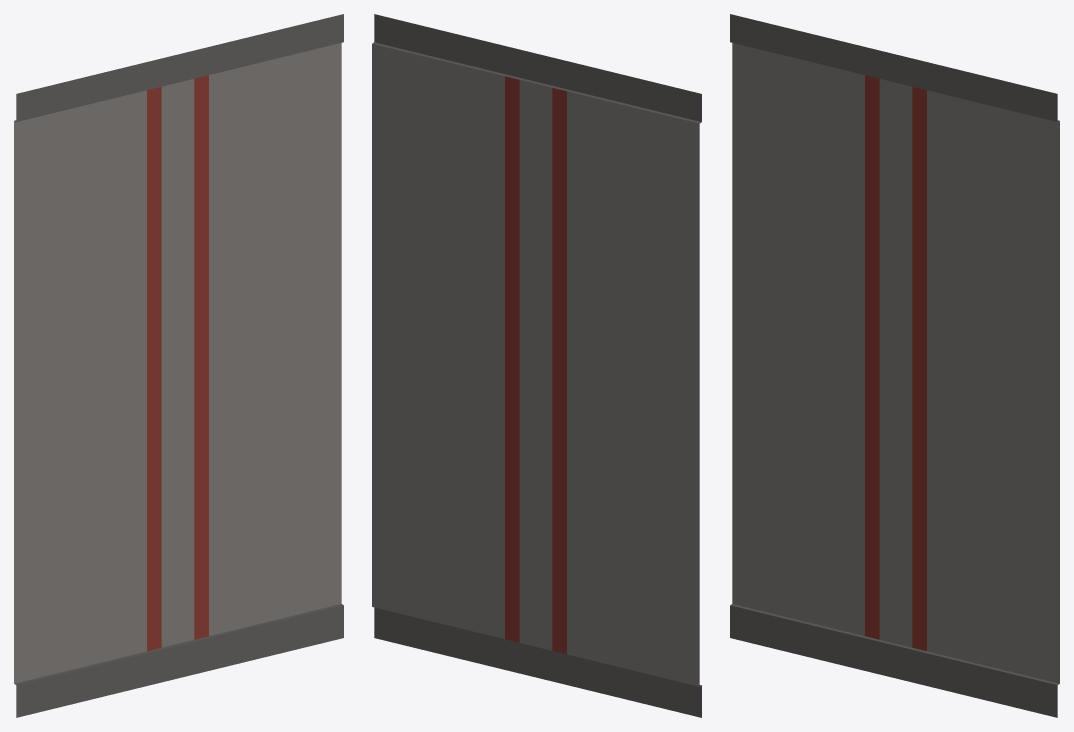
File: AI_Env_Wall_Factory_Lined.fbx
3 views of the same model, side by side, from view 1: azimuth 30°, elevation 25°; view 2: azimuth 150°, elevation 25°; view 3: azimuth 330°, elevation 25° (orthographic).
Visible parts, largest first — view 1: AI_Env_Wall_Factory_Lined; view 2: AI_Env_Wall_Factory_Lined; view 3: AI_Env_Wall_Factory_Lined.
Boxes of the visible parts, left/top/right/bottom form: AI_Env_Wall_Factory_Lined: left=14, top=14, right=343, bottom=717; AI_Env_Wall_Factory_Lined: left=372, top=14, right=701, bottom=717; AI_Env_Wall_Factory_Lined: left=730, top=14, right=1059, bottom=717.
Bounding box in the file's own units: 5 × 9.1 × 0.0549.
